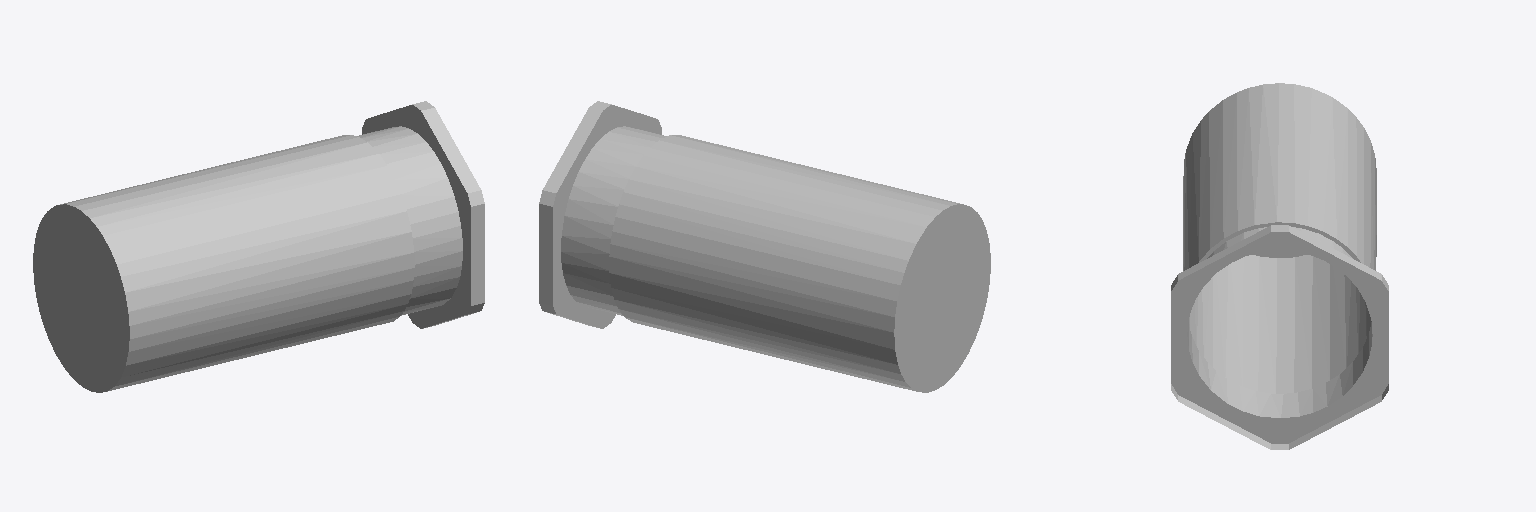
Rendered from connector.obj.
3 renders of one model, left to right at view 1: azimuth 30°, elevation 25°; view 2: azimuth 150°, elevation 25°; view 3: azimuth 270°, elevation 25°, orthographic.
Visible parts, largest first — view 1: base.003; view 2: base.003; view 3: base.003.
Part boxes in pixels (x1,y1,x2,y2): base.003: (33,101,484,392); base.003: (539,101,990,392); base.003: (1171,83,1388,449).
Size of the model in its own units: 0.0477 by 0.0285 by 0.0257.